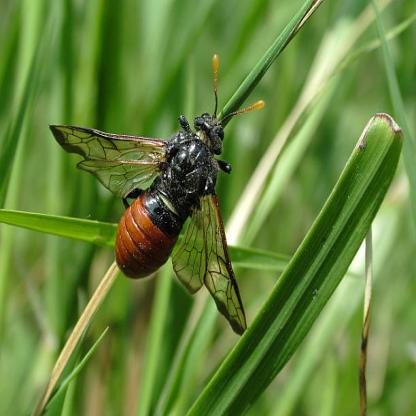sawfly: (48, 58, 268, 342)
